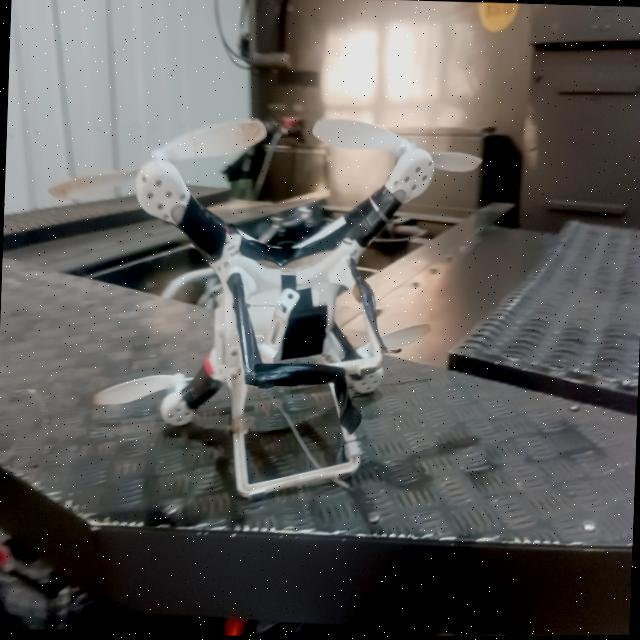drone: (66, 83, 497, 515)
